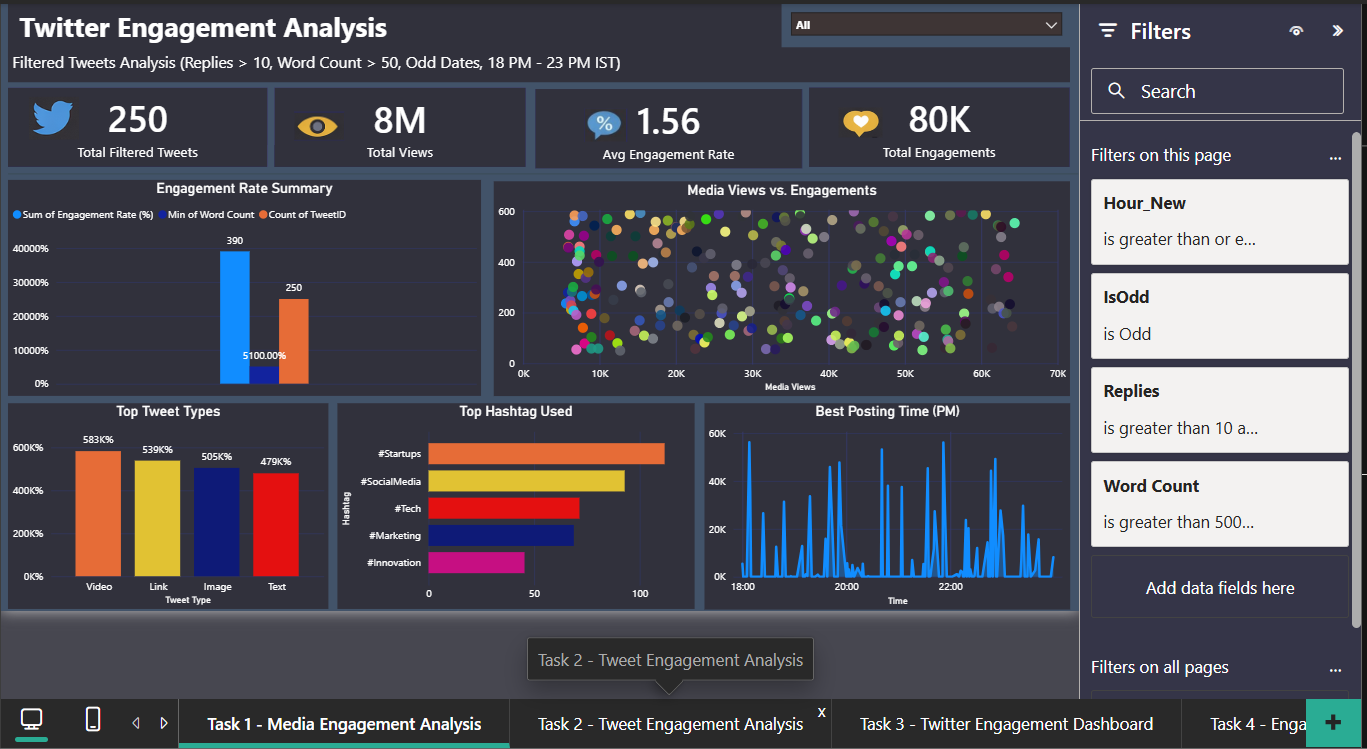

This screenshot's page, from the dashboard's own definition file:
{"tool":"powerbi","page":{"name":"Task 1 - Media Engagement","canvas":[1280,720],"ordinal":0},"visuals":[{"type":"textbox","box":[8.3,0,918.1,63],"z":0},{"type":"cardVisual","fields":{"Data":["Count(twitter_engagement_dataset csv(new).TweetID)"]},"box":[8.7,99.9,308.3,94.1],"z":0,"group":"g4"},{"type":"cardVisual","fields":{"Data":["Avg(twitter_engagement_dataset csv(new).Engagement Rate (%))"]},"box":[633.9,101.3,317,94.1],"z":0,"group":"g2"},{"type":"textbox","box":[8.3,51.4,1261.1,41.4],"z":1000},{"type":"cardVisual","fields":{"Data":["Sum(twitter_engagement_dataset csv(new).Media Views)"]},"box":[324.2,99.9,298.2,94.1],"z":1000,"group":"g5"},{"type":"image","box":[691.9,124,50.7,39.1],"z":1000,"group":"g2"},{"type":"image","box":[347.1,127.6,59.3,34.7],"z":2000,"group":"g5"},{"type":"shape","box":[8.7,180.9,1270.8,42],"z":2000},{"type":"cardVisual","fields":{"Data":["Sum(twitter_engagement_dataset csv(new).Engagements)"]},"box":[959.6,99.9,309.7,94.1],"z":3000,"group":"g3"},{"type":"scatterChart","title":"Media Views vs. Engagements","fields":{"X":["twitter_engagement_dataset csv(new).Media Views"],"Y":["twitter_engagement_dataset csv(new).Engagements"]},"box":[585,210.5,684.4,255.2],"z":3000},{"type":"image","box":[994.9,117.5,52.1,46.3],"z":4000,"group":"g3"},{"type":"clusteredColumnChart","title":"Top Tweet Types","fields":{"Category":["twitter_engagement_dataset csv(new).Tweet Type"],"Y":["Sum(twitter_engagement_dataset csv(new).Word Count)"]},"box":[8.7,474.7,380.7,244.6],"z":4000},{"type":"image","box":[33.3,105.7,59.3,62.2],"z":5000,"group":"g4"},{"type":"clusteredBarChart","title":"Top Hashtag Used","fields":{"Category":["twitter_engagement_dataset csv(new).Hashtag"],"Y":["Sum(twitter_engagement_dataset csv(new).Engagement Rate (%))"]},"box":[399.5,474.7,424.1,244.6],"z":5000},{"type":"stackedAreaChart","title":"Best Posting Time (PM)","fields":{"Y":["Variance(twitter_engagement_dataset csv(new).Engagements)"],"Category":["twitter_engagement_dataset csv(new).Time"]},"box":[835.2,474,434.2,245.3],"z":6000},{"type":"lineClusteredColumnComboChart","title":"Engagement Rate Summary","fields":{"Y":["Sum(twitter_engagement_dataset csv(new).Engagement Rate (%))","Min(twitter_engagement_dataset csv(new).Word Count)","Count(twitter_engagement_dataset csv(new).TweetID)"]},"box":[8.7,208.4,561.6,256.2],"z":7000},{"type":"group","id":"g1","title":"Group 2","box":[324.2,99.9,298.2,94.1],"z":8000},{"type":"group","id":"g2","title":"Group 1","box":[633.9,101.3,317,94.1],"z":9000},{"type":"group","id":"g3","title":"Group 3","box":[959.6,99.9,309.7,94.1],"z":10000},{"type":"slicer","fields":{"Values":["twitter_engagement_dataset csv(new).Date"]},"box":[927.8,0,341.6,52.1],"z":11000},{"type":"group","id":"g4","title":"Group 4","box":[8.7,99.9,308.3,94.1],"z":12000},{"type":"group","id":"g5","title":"Group 5","box":[324.2,99.9,298.2,94.1],"z":14007,"group":"g1"}]}

Visuals, with their boxes on the page's 1280x720 design canvas (x1, y1, x2, y2). These are canvas units, not pixel positions in the 1367x749 screenshot, which may show the page scaled, cropped or inside an application window:
textbox: 8 0 926 63
cardVisual - Count(twitter_engagement_dataset csv(new).TweetID): 9 100 317 194
cardVisual - Avg(twitter_engagement_dataset csv(new).Engagement Rate (%)): 634 101 951 195
textbox: 8 51 1269 93
cardVisual - Sum(twitter_engagement_dataset csv(new).Media Views): 324 100 622 194
image: 692 124 743 163
image: 347 128 406 162
shape: 9 181 1280 223
cardVisual - Sum(twitter_engagement_dataset csv(new).Engagements): 960 100 1269 194
"Media Views vs. Engagements" scatterChart: 585 210 1269 466
image: 995 118 1047 164
"Top Tweet Types" clusteredColumnChart: 9 475 389 719
image: 33 106 93 168
"Top Hashtag Used" clusteredBarChart: 400 475 824 719
"Best Posting Time (PM)" stackedAreaChart: 835 474 1269 719
"Engagement Rate Summary" lineClusteredColumnComboChart: 9 208 570 465
"Group 2" group: 324 100 622 194
"Group 1" group: 634 101 951 195
"Group 3" group: 960 100 1269 194
slicer - twitter_engagement_dataset csv(new).Date: 928 0 1269 52
"Group 4" group: 9 100 317 194
"Group 5" group: 324 100 622 194
